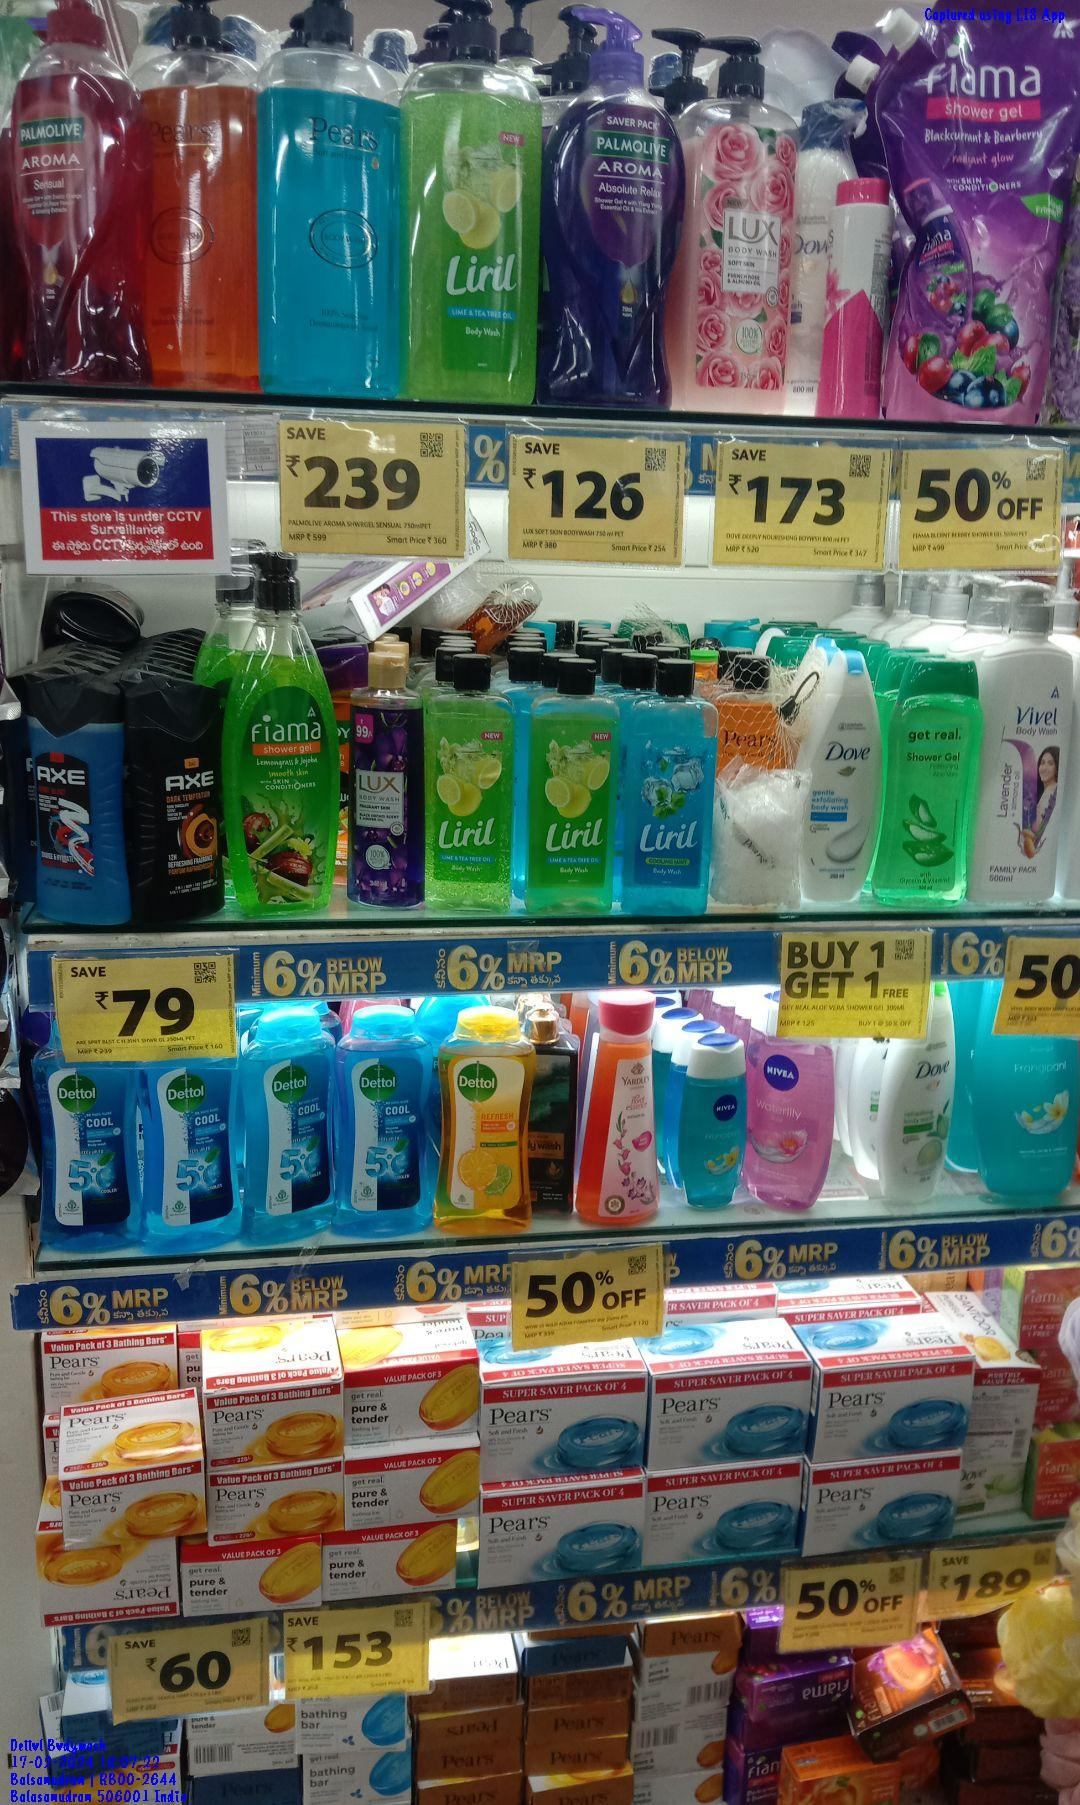Dettol_Bodywash_Cool: (37, 1046, 139, 1256), (147, 1050, 243, 1256), (248, 1007, 332, 1233), (343, 1012, 424, 1234)
Dettol_Bodywash_Refresh: (431, 1007, 534, 1235)
Dove_Gentle_Exfoliating_Body_Wash_250ML: (811, 651, 879, 901)
Dove_Refreshing_Body_Wash_250ML: (888, 978, 959, 1205)
Liril_Cooling_Mint_Body_Wash_250ML: (622, 654, 714, 914)
Liril_Lime_and_Tea_Tree_Oil_Body_Wash_250ML: (527, 656, 613, 920), (428, 651, 507, 910)
Lux_Black_Orchid_Scent_and_Juniper_Oil_Body_Wash_245ML: (348, 648, 423, 902)
Nivea_Shower_Gel_Waterlily_and_Oil_250ML: (751, 1010, 829, 1208)
